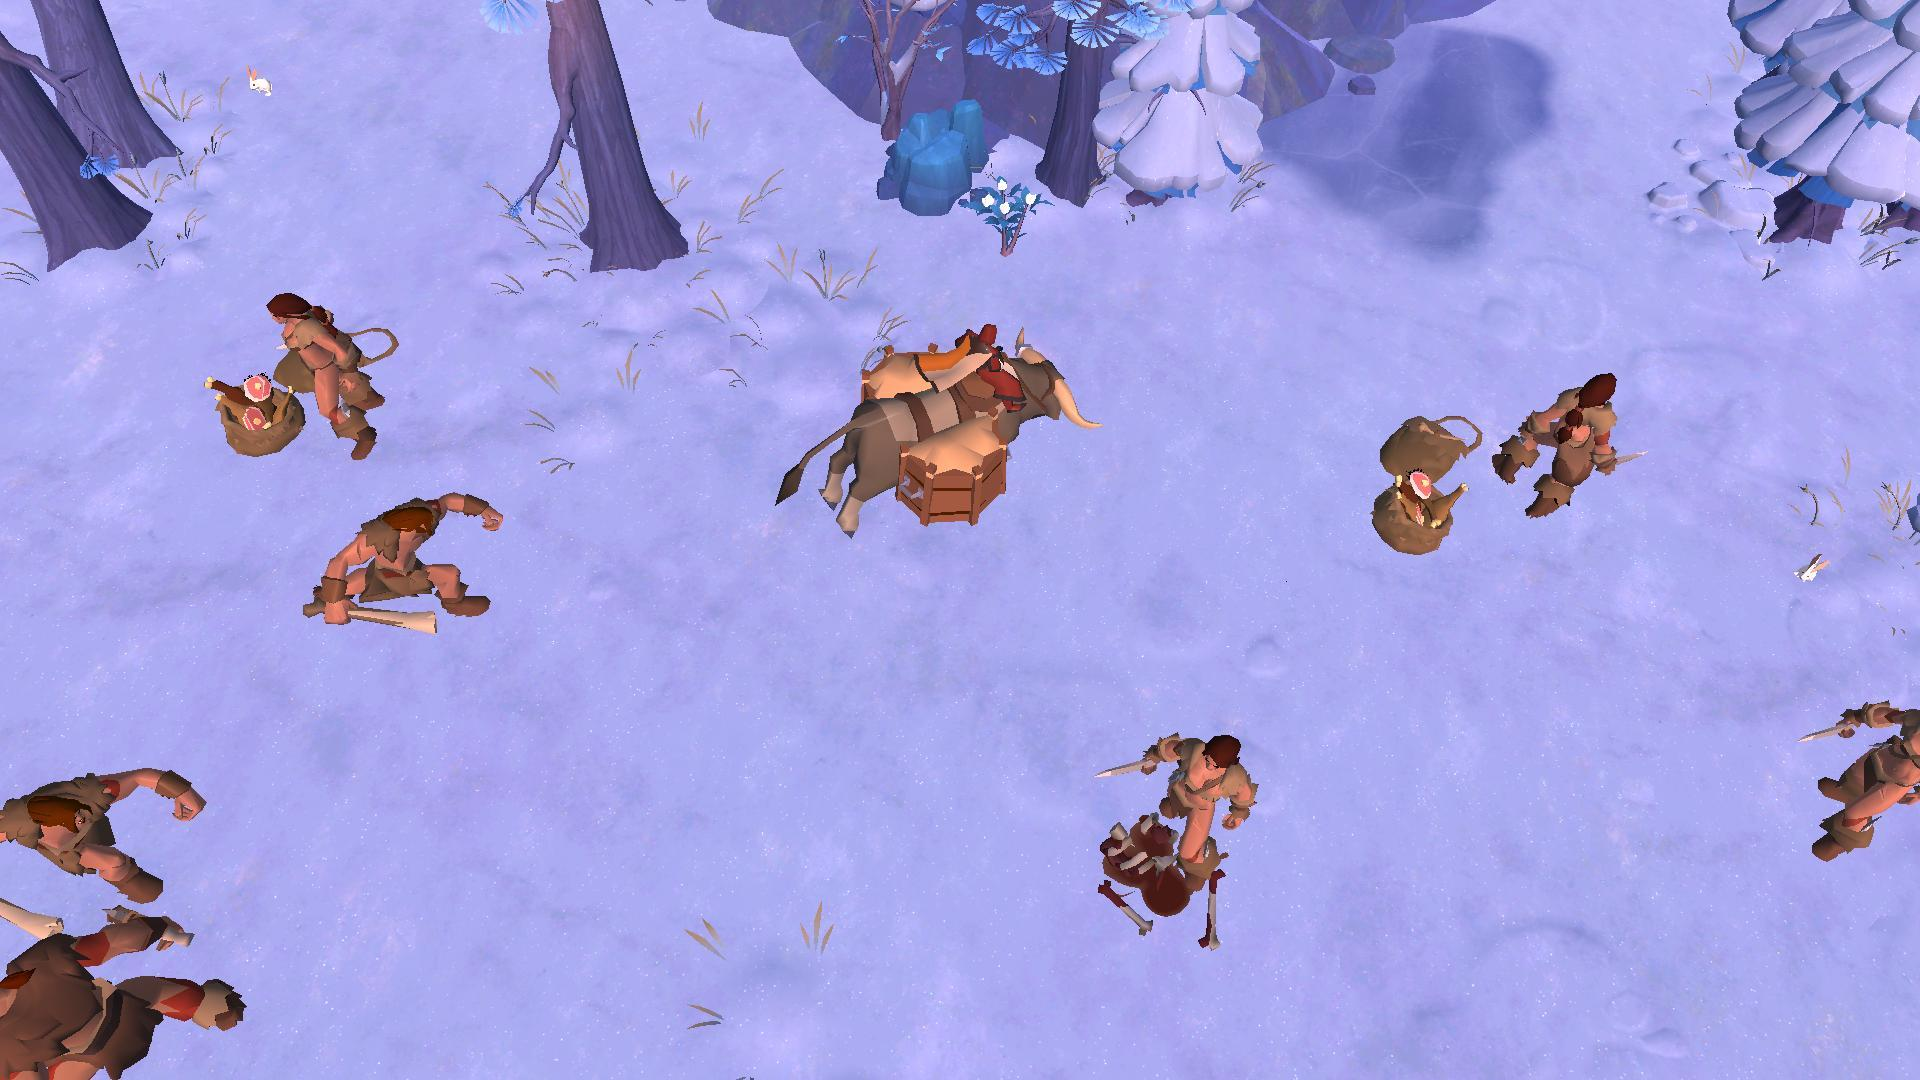enemy_factionKeeper: (0, 911, 214, 1080), (15, 754, 203, 918), (319, 487, 509, 645), (248, 291, 389, 447), (1494, 356, 1622, 527), (1799, 695, 1920, 866), (1129, 723, 1253, 885)
fiber_t4: (965, 167, 1048, 261)
rock_t4: (866, 95, 997, 220)
